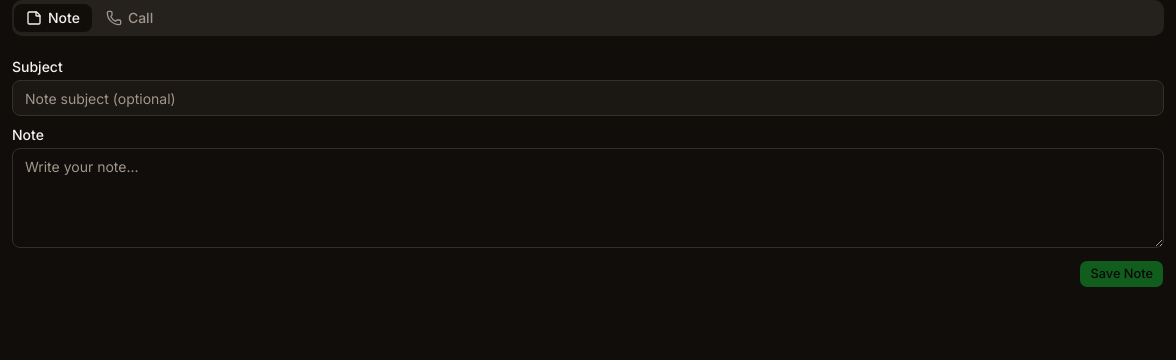
Test: ActivityComposer › submit safety (ORR-812) › surfaces the server error message when a note fails to save
Type "Blocked note" into the text box labelled "Note" at (588, 198), box top-left (12, 148), bottom-right (1164, 248)
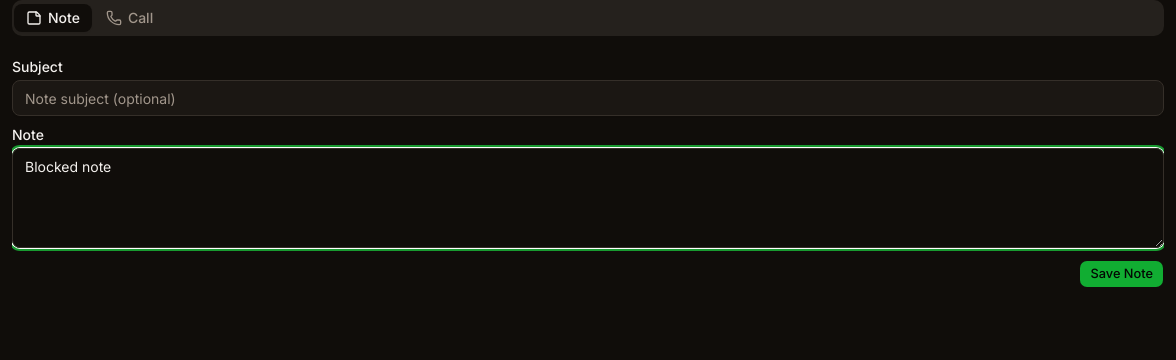
Click the button "Save Note" at (1122, 274), box top-left (1080, 260), bottom-right (1164, 288)
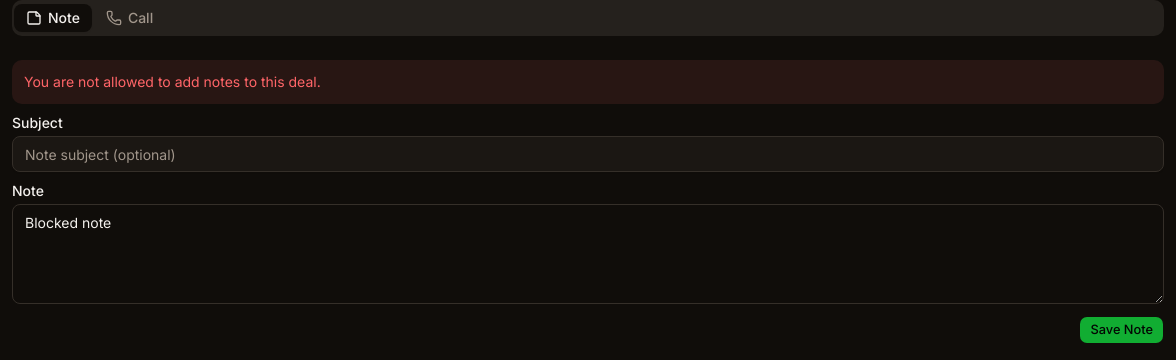
Now the text "You are not allowed to add notes to this deal." is shown, box top-left (12, 60), bottom-right (1164, 104)
